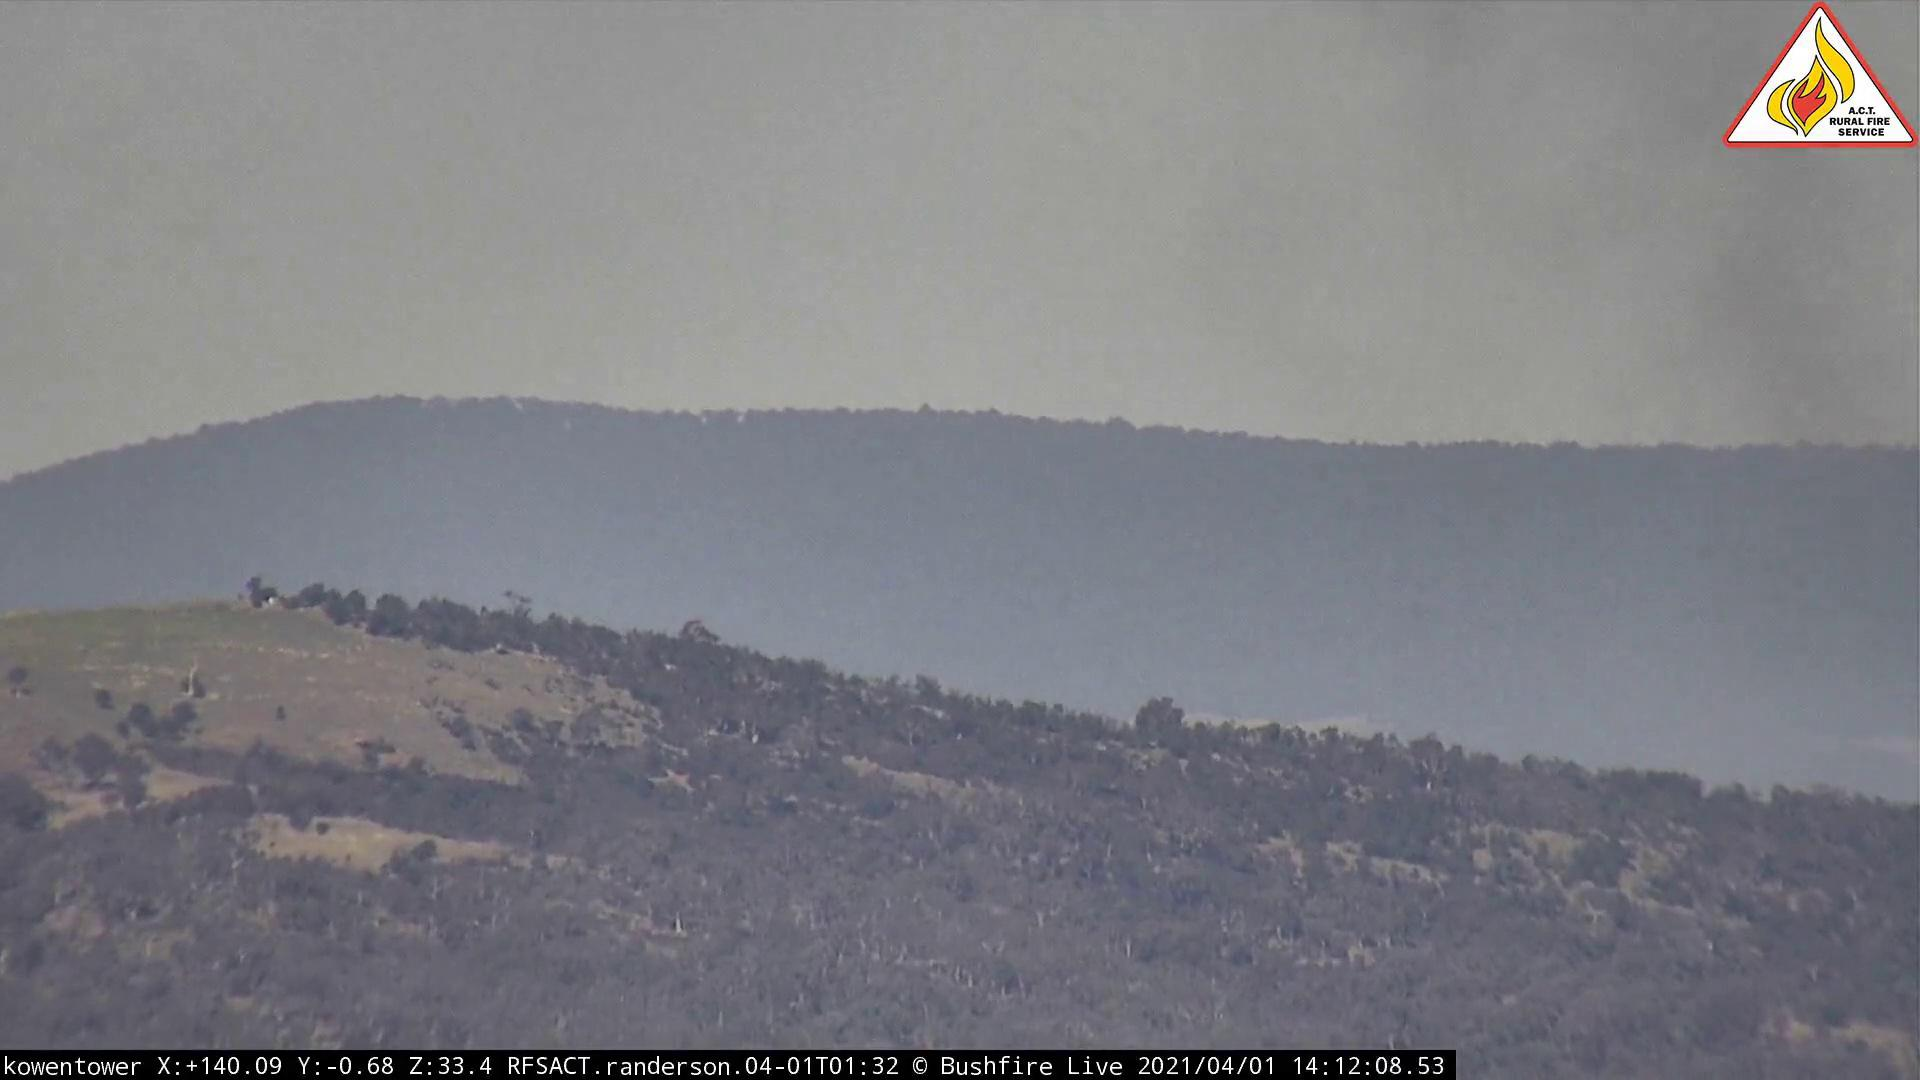Smoke: (1135, 165, 1920, 866)
